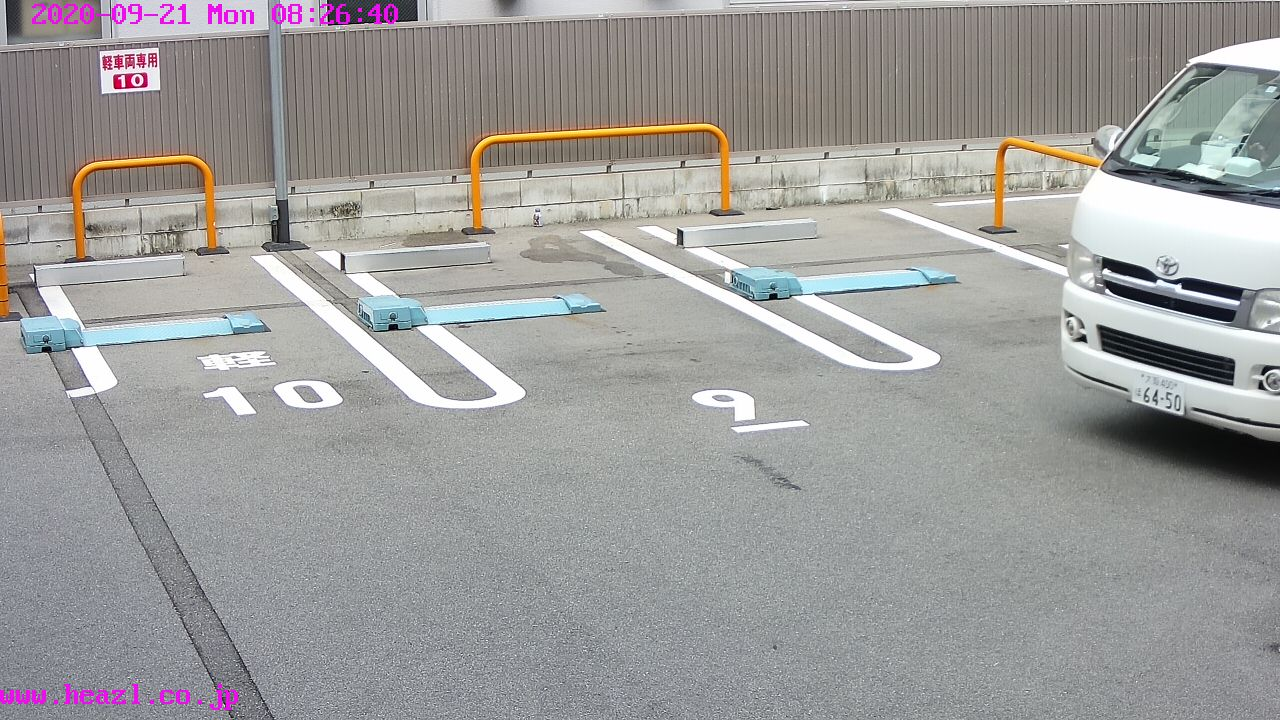number_plate: (1131, 369, 1184, 413)
